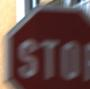Stop sign: (0, 0, 89, 88)
